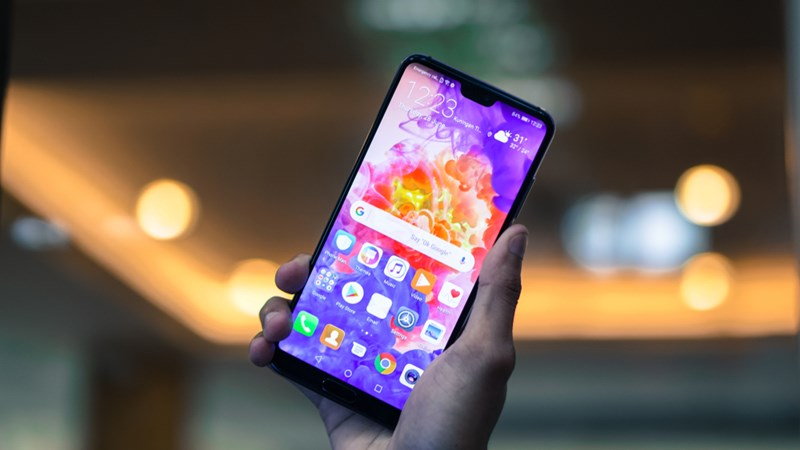Phone: (265, 49, 558, 432)
